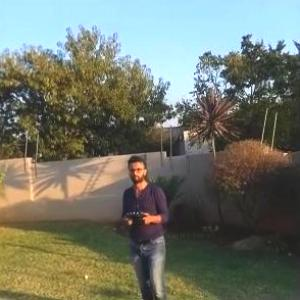follow: (120, 152, 174, 299)
